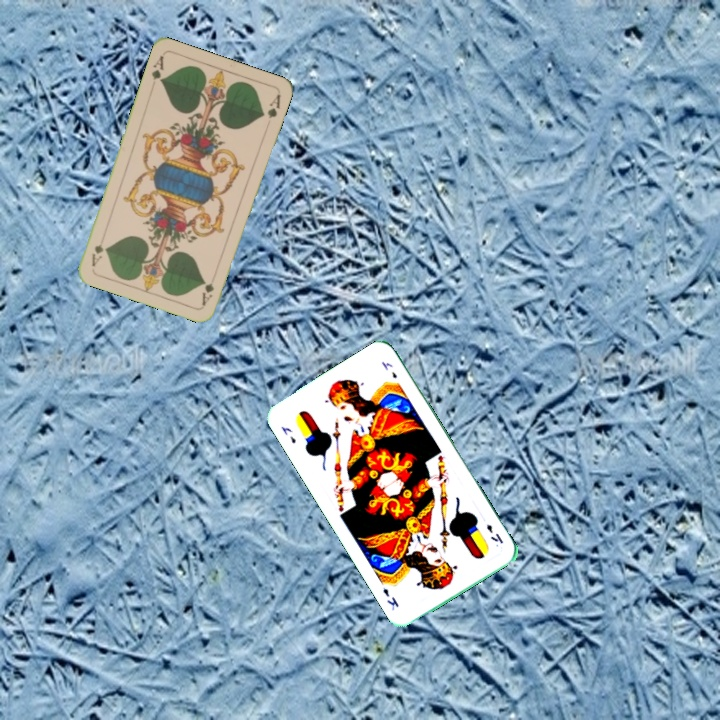EK: (482, 520, 506, 546), (277, 422, 298, 446)
GA: (198, 269, 219, 308), (147, 51, 167, 85)
